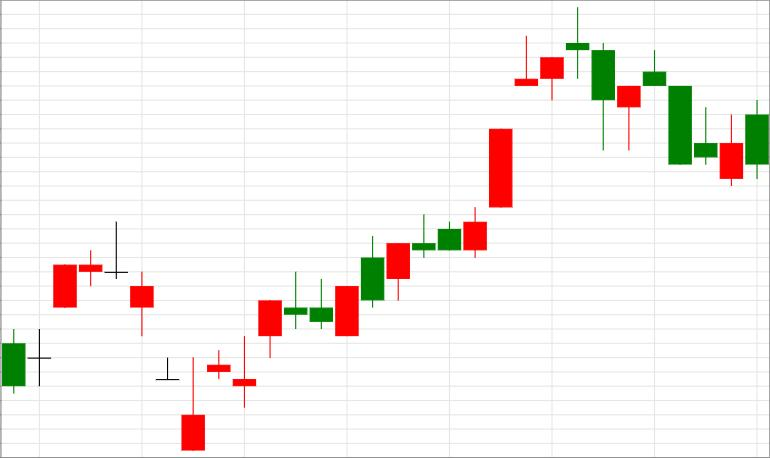evening_star_fall: (463, 7, 615, 258)
inverse_hammer_rise: (79, 221, 204, 451)
